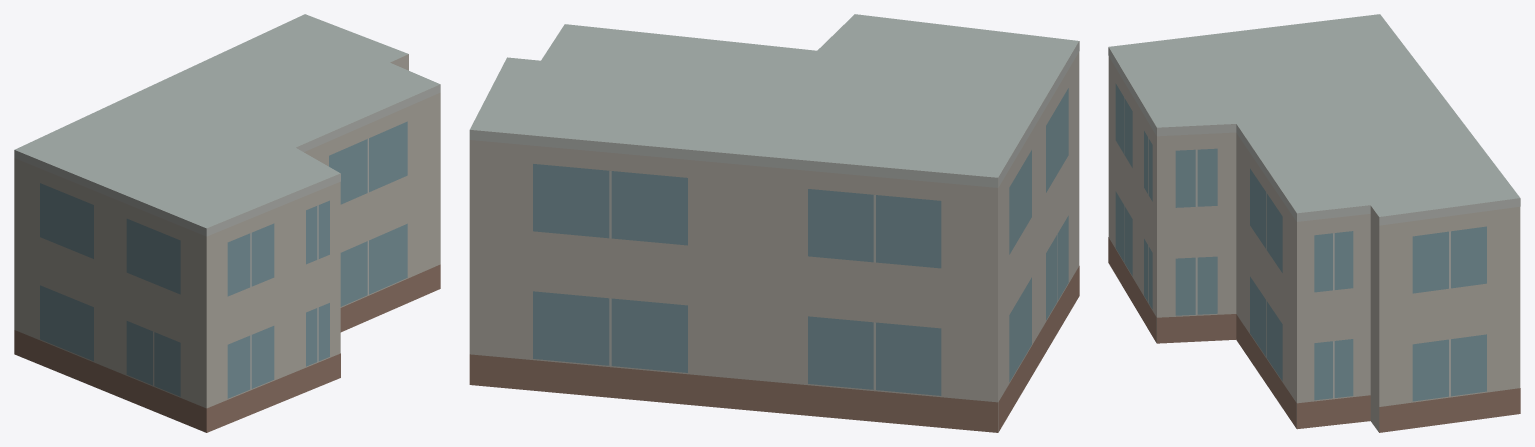
The model's file is survey-upis-32735686.glb.
3 renders of one model, left to right at view 1: azimuth 30°, elevation 25°; view 2: azimuth 150°, elevation 25°; view 3: azimuth 270°, elevation 25°, orthographic. The views are drawn at different scales.
Visible parts, largest first — view 1: survey-upis-32735686.tmp; view 2: survey-upis-32735686.tmp; view 3: survey-upis-32735686.tmp.
Boxes of the visible parts, left/top/right/bottom form: survey-upis-32735686.tmp: left=14, top=14, right=440, bottom=432; survey-upis-32735686.tmp: left=469, top=14, right=1079, bottom=432; survey-upis-32735686.tmp: left=1108, top=14, right=1520, bottom=432.
Bounding box in the file's own units: 12.32 × 6.1 × 10.56.
